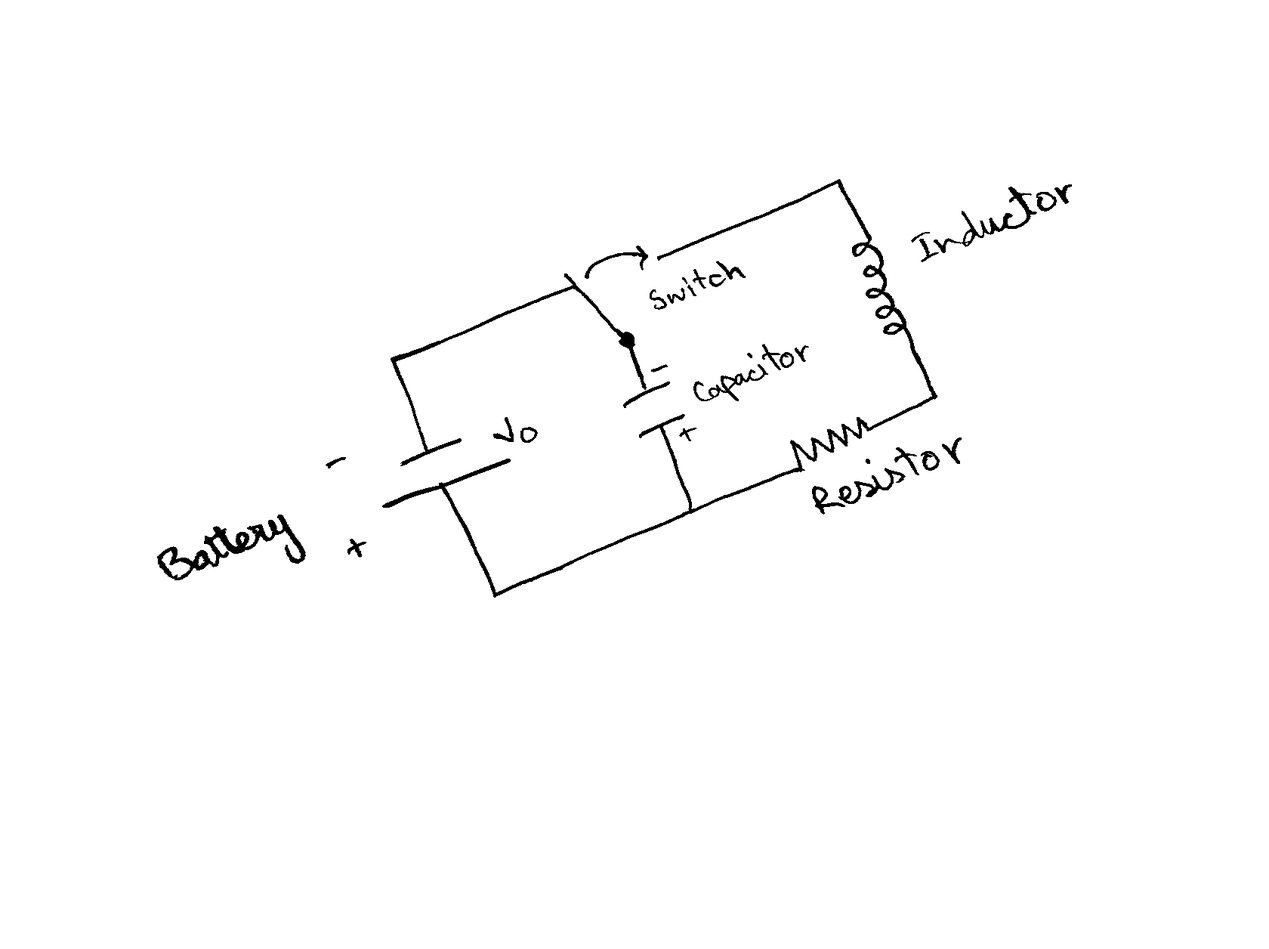capacitor.polarized: (616, 361, 699, 444)
inductor: (850, 237, 908, 335)
junction: (478, 574, 510, 607), (676, 490, 706, 525), (921, 385, 946, 410), (384, 349, 407, 372), (826, 173, 848, 194)
resistor: (788, 413, 872, 474)
switch: (561, 233, 662, 351)
text: (909, 181, 1085, 264), (807, 431, 965, 518), (146, 508, 309, 583), (691, 340, 810, 404), (647, 258, 748, 312), (492, 417, 541, 444)
voltage.battery: (381, 434, 512, 509)
